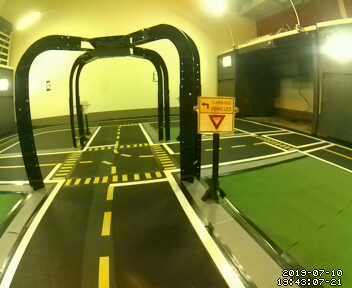Turn Yield: (198, 96, 234, 132)
